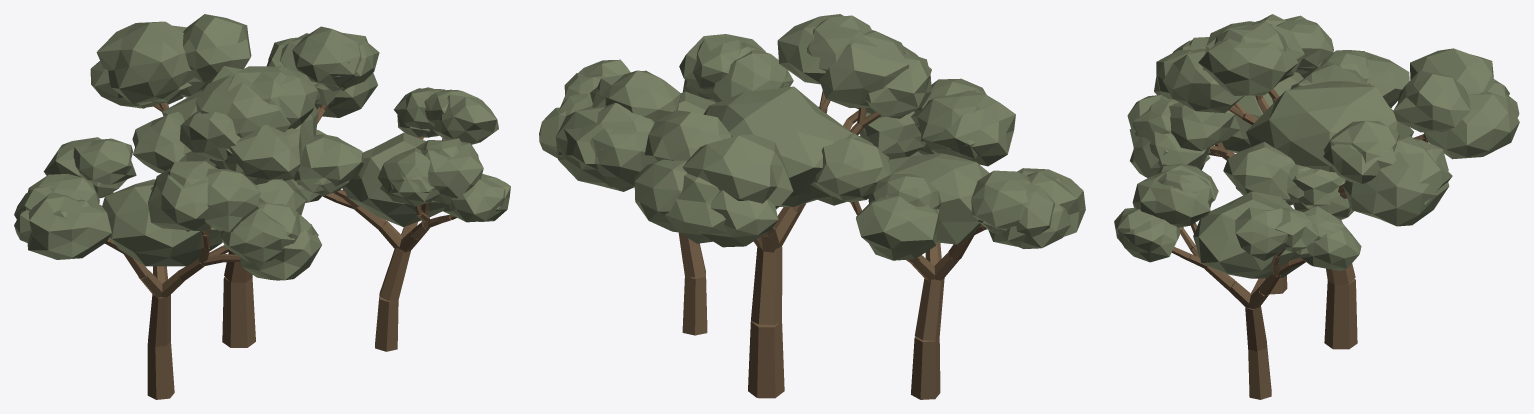
3 views of the same model, side by side, from view 1: azimuth 30°, elevation 25°; view 2: azimuth 150°, elevation 25°; view 3: azimuth 270°, elevation 25° (orthographic). The views are drawn at different scales.
Visible parts, largest first — view 1: K12c; view 2: K12c; view 3: K12c.
Boxes of the visible parts, x1=… form: K12c: x1=14, y1=14, x2=510, y2=399; K12c: x1=539, y1=14, x2=1085, y2=399; K12c: x1=1114, y1=14, x2=1519, y2=399.
Bounding box in the file's own units: 15.74 × 10.02 × 12.11.
